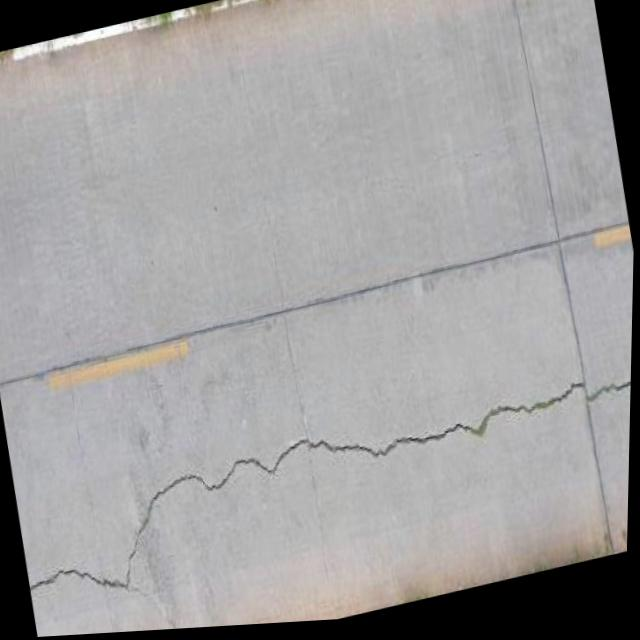Crack: (143, 355, 633, 536), (25, 515, 171, 636)
